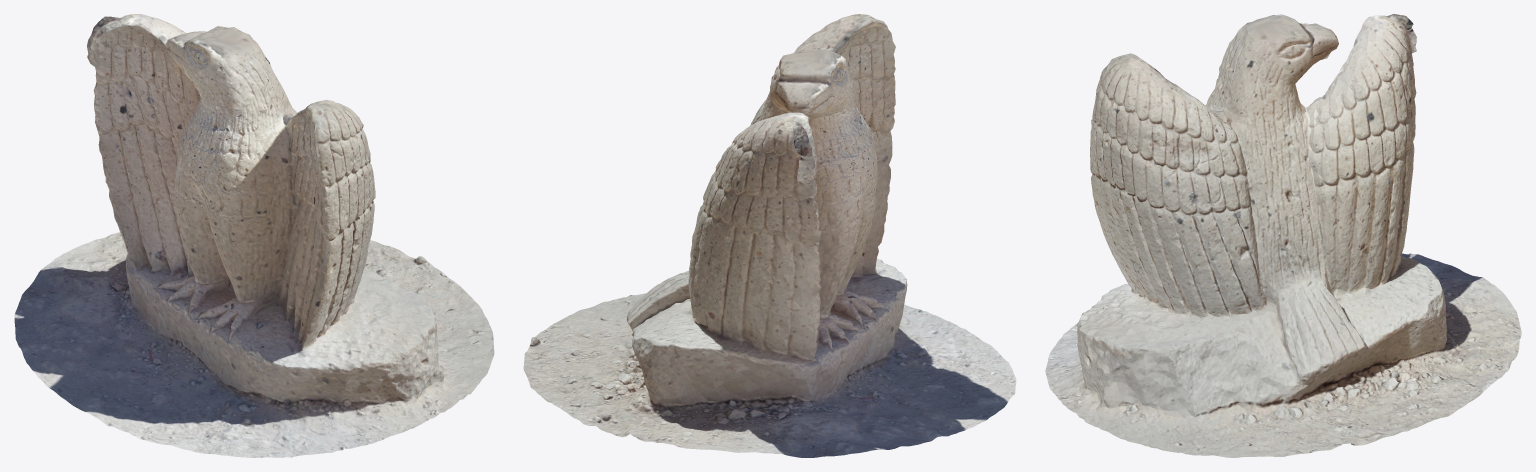
The model's file is eagle_sillar_polycam.glb.
3 views of the same model, side by side, from view 1: azimuth 30°, elevation 25°; view 2: azimuth 150°, elevation 25°; view 3: azimuth 270°, elevation 25° (orthographic). The views are drawn at different scales.
Parts seen in each view (by area): view 1: Object_4, Object_5; view 2: Object_4, Object_5; view 3: Object_4, Object_5.
Boxes of the visible parts, <box> form: Object_4: <box>16,14,493,457</box>; Object_5: <box>14,35,494,453</box>; Object_4: <box>538,14,999,457</box>; Object_5: <box>523,55,1016,457</box>; Object_4: <box>1045,14,1521,446</box>; Object_5: <box>1079,35,1464,457</box>.
Size of the model in its own units: 1.18 by 0.8978 by 1.17.
1 material, 1 textured.
